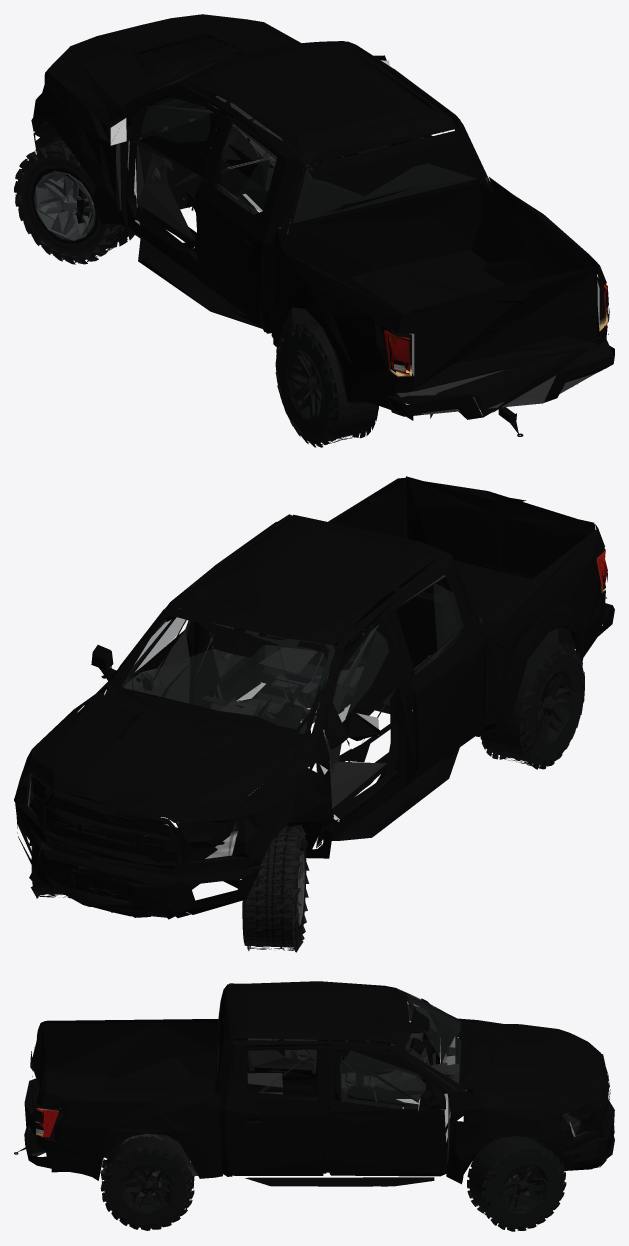
File: raptor.glb
The picture shows the model from 3 angles, top to bottom: view 1: azimuth 30°, elevation 25°; view 2: azimuth 150°, elevation 25°; view 3: azimuth 270°, elevation 25°; orthographic projection. The views are drawn at different scales.
Parts seen in each view (by area): view 1: bodyshell1_1_17_64, Object_61, door_dside_r_31_60_137, Object_42, Object_39, windscreen_r_55_216_379, Object_54, Object_56, door_pside_f_23_74_165, Object_14, Object_10, Object_12 (+8 smaller); view 2: bodyshell1_1_17_64, Object_61, windscreen_56_213_374, Object_54, chassis_2_46_112, door_dside_r_31_60_137, bumper_f_20_28_78, door_pside_f_23_74_165, Object_39, Object_42, Object_10, misc_skirt_18_137_256 (+9 smaller); view 3: bodyshell1_1_17_64, door_pside_f_23_74_165, door_pside_r_26_84_184, Object_61, Object_47, [wheel_59_2_37, chassis_2_46_112, window_rf_25_207_364, windscreen_56_213_374, door_dside_r_31_60_137, misc_skirt_18_137_256, bumper_f_20_28_78 (+6 smaller).
Part boxes in pixels (x1=…): bodyshell1_1_17_64: x1=31, y1=20, x2=614, y2=419; Object_61: x1=45, y1=14, x2=296, y2=97; door_dside_r_31_60_137: x1=195, y1=115, x2=285, y2=326; Object_42: x1=14, y1=135, x2=134, y2=264; Object_39: x1=275, y1=321, x2=378, y2=447; windscreen_r_55_216_379: x1=293, y1=131, x2=477, y2=223; Object_54: x1=410, y1=266, x2=597, y2=390; Object_56: x1=411, y1=270, x2=597, y2=390; door_pside_f_23_74_165: x1=107, y1=48, x2=390, y2=279; Object_14: x1=137, y1=105, x2=216, y2=240; Object_10: x1=108, y1=92, x2=216, y2=177; Object_12: x1=141, y1=97, x2=210, y2=142; bodyshell1_1_17_64: x1=14, y1=477, x2=614, y2=889; Object_61: x1=27, y1=693, x2=299, y2=822; windscreen_56_213_374: x1=115, y1=606, x2=335, y2=734; Object_54: x1=406, y1=476, x2=594, y2=579; chassis_2_46_112: x1=123, y1=587, x2=575, y2=813; door_dside_r_31_60_137: x1=388, y1=564, x2=484, y2=779; bumper_f_20_28_78: x1=16, y1=813, x2=260, y2=919; door_pside_f_23_74_165: x1=91, y1=579, x2=415, y2=840; Object_39: x1=480, y1=641, x2=584, y2=769; Object_42: x1=242, y1=824, x2=309, y2=952; Object_10: x1=327, y1=619, x2=407, y2=763; misc_skirt_18_137_256: x1=239, y1=699, x2=459, y2=840; bodyshell1_1_17_64: x1=24, y1=981, x2=610, y2=1184; door_pside_f_23_74_165: x1=328, y1=998, x2=447, y2=1176; door_pside_r_26_84_184: x1=229, y1=1045, x2=328, y2=1175; Object_61: x1=473, y1=1020, x2=604, y2=1110; Object_47: x1=467, y1=1136, x2=566, y2=1231; [wheel_59_2_37: x1=100, y1=1134, x2=194, y2=1230; chassis_2_46_112: x1=51, y1=1020, x2=569, y2=1172; window_rf_25_207_364: x1=340, y1=1050, x2=425, y2=1105; windscreen_56_213_374: x1=397, y1=989, x2=481, y2=1090; door_dside_r_31_60_137: x1=233, y1=1038, x2=321, y2=1093; misc_skirt_18_137_256: x1=245, y1=1099, x2=434, y2=1186; bumper_f_20_28_78: x1=559, y1=1098, x2=614, y2=1171.
Size of what is drawn, in the model's own units: 2.54 by 2.01 by 6.11.
32 materials, 16 textured.
